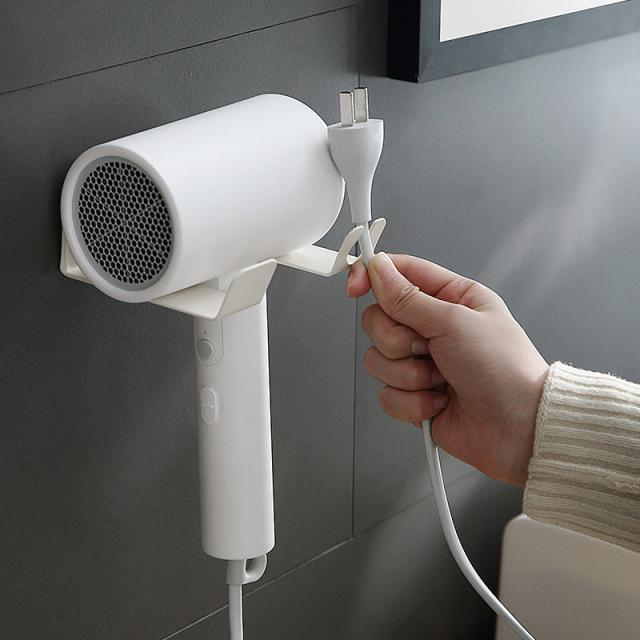dryer: (42, 66, 378, 585)
